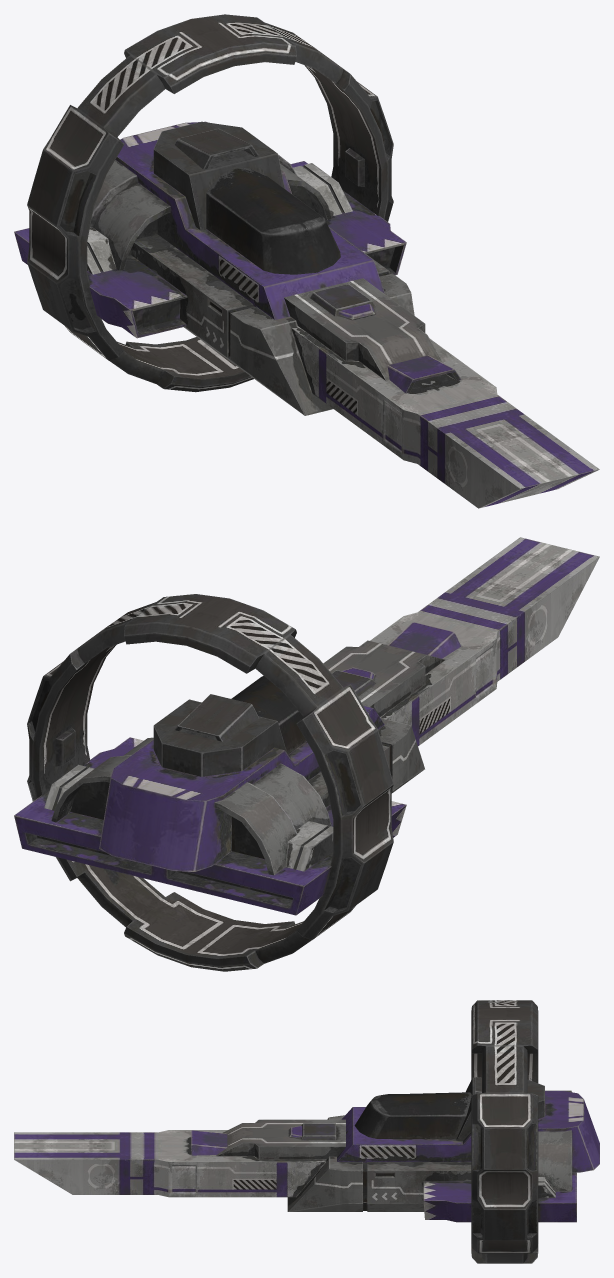
File: zenith_purple.glb
3 renders of one model, top to bottom at view 1: azimuth 30°, elevation 25°; view 2: azimuth 150°, elevation 25°; view 3: azimuth 270°, elevation 25°, orthographic. The views are drawn at different scales.
Parts seen in each view (by area): view 1: zenith; view 2: zenith; view 3: zenith.
Boxes of the visible parts, x1=… form: zenith: x1=14, y1=14, x2=599, y2=508; zenith: x1=14, y1=537, x2=599, y2=971; zenith: x1=14, y1=1000, x2=599, y2=1263.
Size of the model in its own units: 5.63 by 5.43 by 12.07.
1 material, 1 textured.
